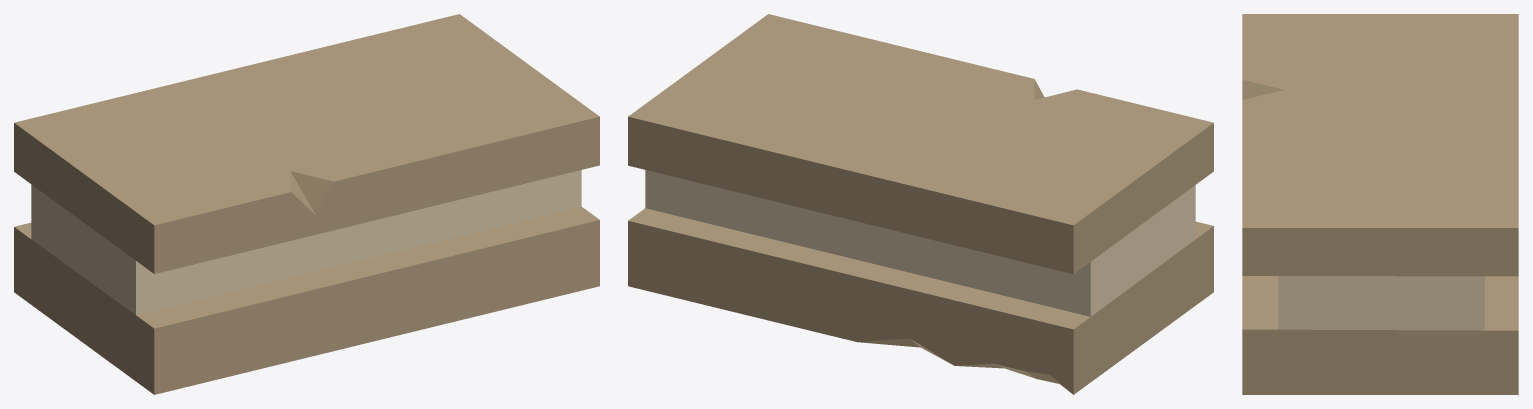
Rendered from DarkSandStoneWallSmallThickSectionTopper1.fbx.
The picture shows the model from 3 angles, left to right: view 1: azimuth 30°, elevation 25°; view 2: azimuth 150°, elevation 25°; view 3: azimuth 270°, elevation 25°; orthographic projection.
Visible parts, largest first — view 1: LightStoneWallSmallThickSectionTopper1; view 2: LightStoneWallSmallThickSectionTopper1; view 3: LightStoneWallSmallThickSectionTopper1.
Part boxes in pixels (<box>): LightStoneWallSmallThickSectionTopper1: <box>14,14,599,394</box>; LightStoneWallSmallThickSectionTopper1: <box>628,14,1213,394</box>; LightStoneWallSmallThickSectionTopper1: <box>1242,14,1518,394</box>.
Size of the model in its own units: 550 by 200 by 300.
2 materials, 2 textured.
